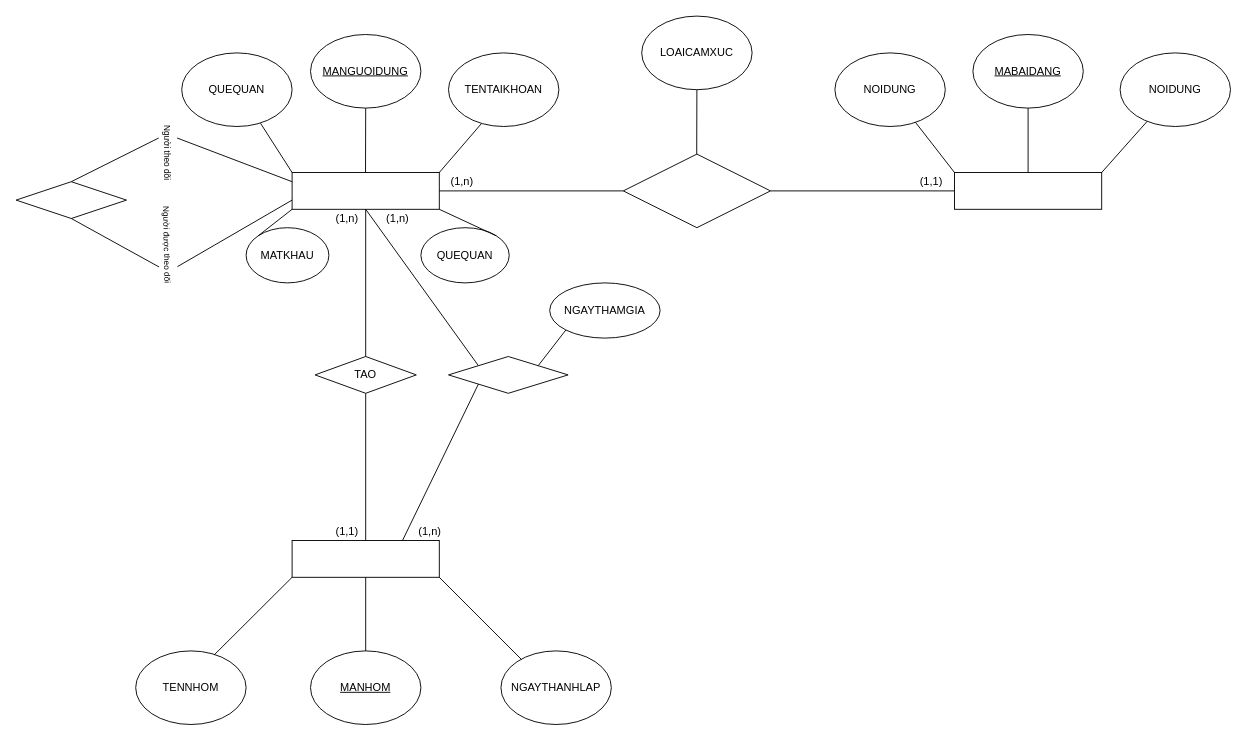
This 1247x741 diagram has some shape labels left out. The centre of each missing label's shape, as x and y in pixels:
"BAIDANG" goes at pixel 1028 190.
"NGUOIDUNG" goes at pixel 365 190.
"NHOM" goes at pixel 365 558.
"THAMGIA" goes at pixel 508 374.
"THEODOI" goes at pixel 70 199.
"TUONGTAC" goes at pixel 696 190.
